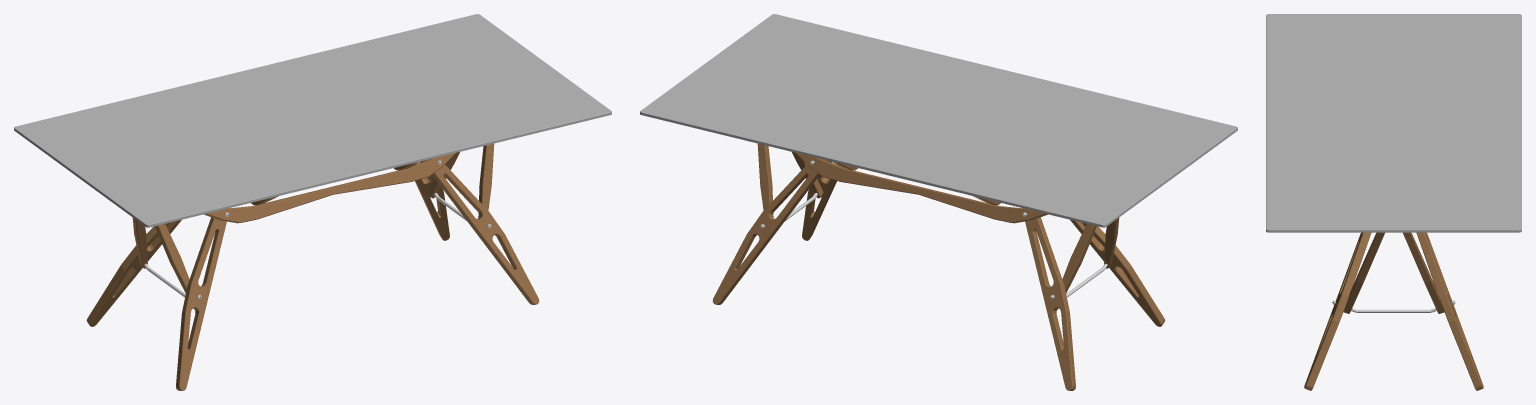
File: mesa2.glb
The picture shows the model from 3 angles, left to right: view 1: azimuth 30°, elevation 25°; view 2: azimuth 150°, elevation 25°; view 3: azimuth 270°, elevation 25°; orthographic projection. The views are drawn at different scales.
Parts seen in each view (by area): view 1: root; view 2: root; view 3: root.
Boxes of the visible parts, x1=… form: root: x1=14, y1=14, x2=611, y2=390; root: x1=640, y1=14, x2=1237, y2=390; root: x1=1266, y1=14, x2=1521, y2=390.
Bounding box in the file's own units: 1.8 × 0.7257 × 0.9011.
